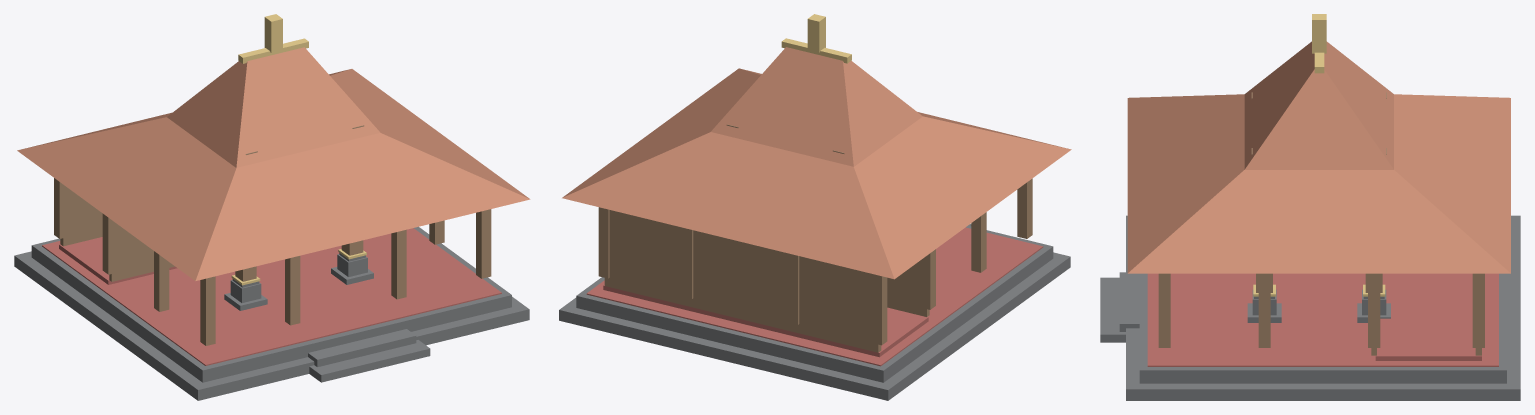
The model's file is rumah_joglo.glb.
3 views of the same model, side by side, from view 1: azimuth 30°, elevation 25°; view 2: azimuth 150°, elevation 25°; view 3: azimuth 270°, elevation 25° (orthographic). The views are drawn at different scales.
Visible parts, largest first — view 1: Roof_SlateStructure, Interior_Velvet, Undercarriage_StonePlinth, Roof_Brunjung, Body_TealWood, Body_SlateTrim, Chimney_Brass, Wheel_FL_Iron, Wheel_FR_Iron; view 2: Roof_SlateStructure, Body_SlateTrim, Undercarriage_StonePlinth, Roof_Brunjung, Interior_Velvet, Body_TealWood, Chimney_Brass; view 3: Roof_SlateStructure, Interior_Velvet, Undercarriage_StonePlinth, Roof_Brunjung, Body_TealWood, Chimney_Brass, Wheel_FR_Iron, Wheel_RR_Iron.
Part boxes in pixels (x1=…): Roof_SlateStructure: x1=17, y1=69, x2=530, y2=280; Interior_Velvet: x1=42, y1=228, x2=501, y2=365; Undercarriage_StonePlinth: x1=14, y1=226, x2=529, y2=400; Roof_Brunjung: x1=167, y1=47, x2=380, y2=167; Body_TealWood: x1=54, y1=125, x2=491, y2=345; Body_SlateTrim: x1=60, y1=189, x2=174, y2=281; Chimney_Brass: x1=238, y1=14, x2=308, y2=63; Wheel_FL_Iron: x1=224, y1=279, x2=267, y2=310; Wheel_FR_Iron: x1=331, y1=253, x2=373, y2=284; Roof_SlateStructure: x1=562, y1=68, x2=1071, y2=279; Body_SlateTrim: x1=604, y1=210, x2=929, y2=352; Undercarriage_StonePlinth: x1=559, y1=224, x2=1070, y2=400; Roof_Brunjung: x1=711, y1=47, x2=922, y2=166; Interior_Velvet: x1=586, y1=227, x2=1043, y2=366; Body_TealWood: x1=598, y1=124, x2=1032, y2=345; Chimney_Brass: x1=781, y1=14, x2=851, y2=63; Roof_SlateStructure: x1=1127, y1=94, x2=1510, y2=273; Interior_Velvet: x1=1147, y1=273, x2=1498, y2=366; Undercarriage_StonePlinth: x1=1100, y1=215, x2=1520, y2=400; Roof_Brunjung: x1=1244, y1=41, x2=1393, y2=169; Body_TealWood: x1=1158, y1=92, x2=1484, y2=347; Chimney_Brass: x1=1312, y1=14, x2=1326, y2=73; Wheel_FR_Iron: x1=1247, y1=289, x2=1281, y2=322; Wheel_RR_Iron: x1=1357, y1=289, x2=1390, y2=322.
Bounding box in the file's own units: 5.16 × 4.07 × 5.22.
